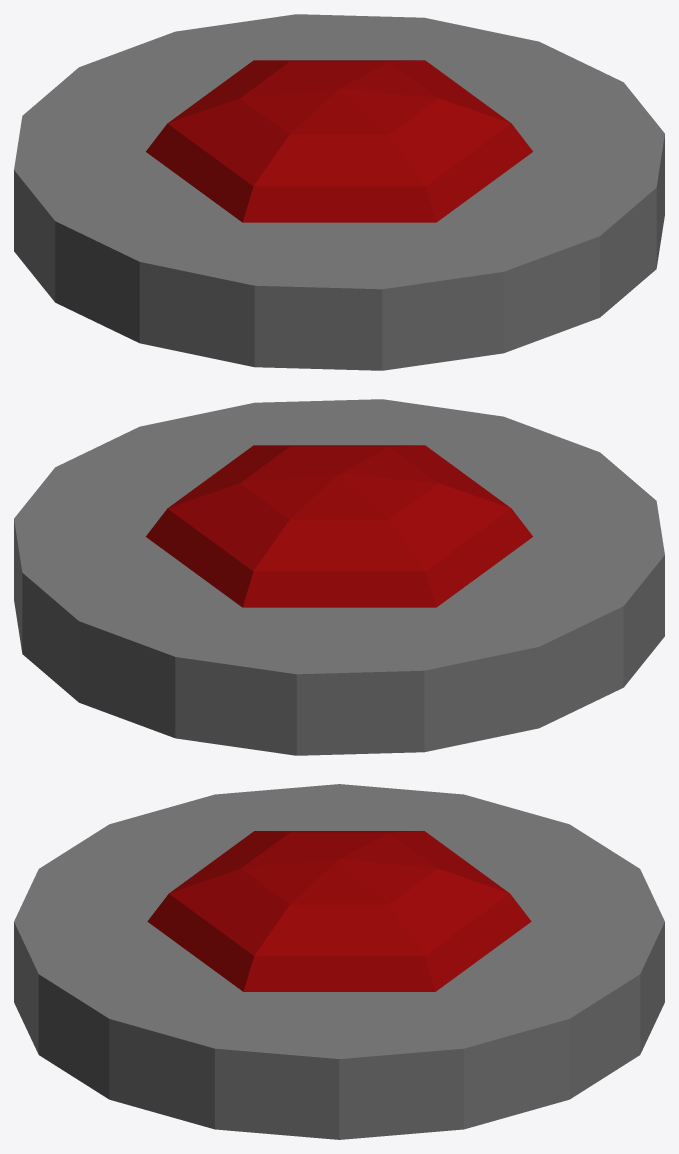
The model's file is mine.fbx.
The picture shows the model from 3 angles, top to bottom: view 1: azimuth 30°, elevation 25°; view 2: azimuth 150°, elevation 25°; view 3: azimuth 270°, elevation 25°; orthographic projection.
Visible parts, largest first — view 1: Mine, Mine light on; view 2: Mine, Mine light on; view 3: Mine, Mine light on.
Part boxes in pixels (bbox=[...]): Mine: bbox=[14, 14, 664, 370]; Mine light on: bbox=[146, 60, 532, 222]; Mine: bbox=[14, 399, 664, 755]; Mine light on: bbox=[146, 445, 532, 607]; Mine: bbox=[14, 784, 664, 1139]; Mine light on: bbox=[147, 831, 531, 991].
Size of the model in its own units: 232 by 56.35 by 232.
